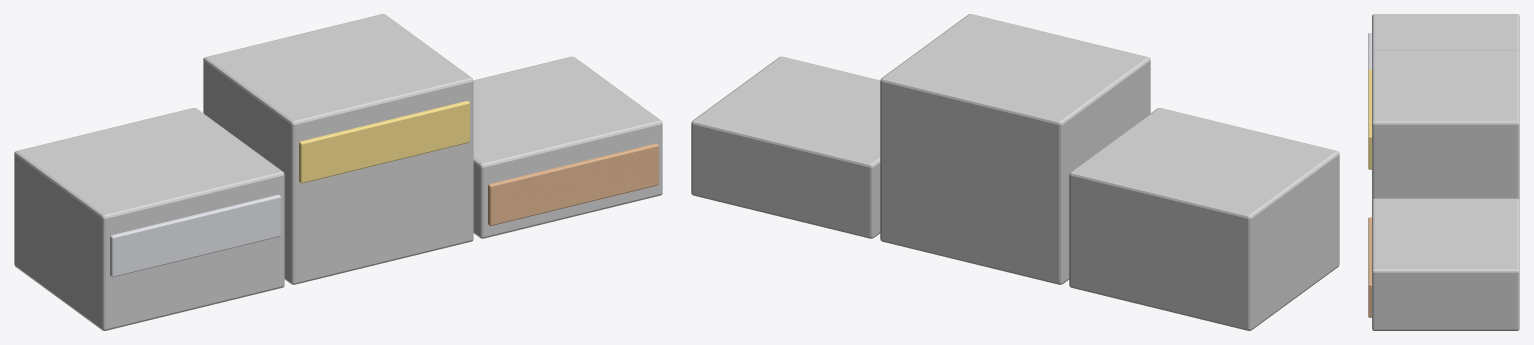
The model's file is podium.glb.
3 renders of one model, left to right at view 1: azimuth 30°, elevation 25°; view 2: azimuth 150°, elevation 25°; view 3: azimuth 270°, elevation 25°, orthographic. The views are drawn at different scales.
Visible parts, largest first — view 1: podium; view 2: podium; view 3: podium.
Part boxes in pixels (left/top/right/bottom): podium: left=14, top=14, right=662, bottom=330; podium: left=691, top=14, right=1339, bottom=330; podium: left=1368, top=14, right=1519, bottom=330.
Bounding box in the file's own units: 4.3 × 1.2 × 1.23.
